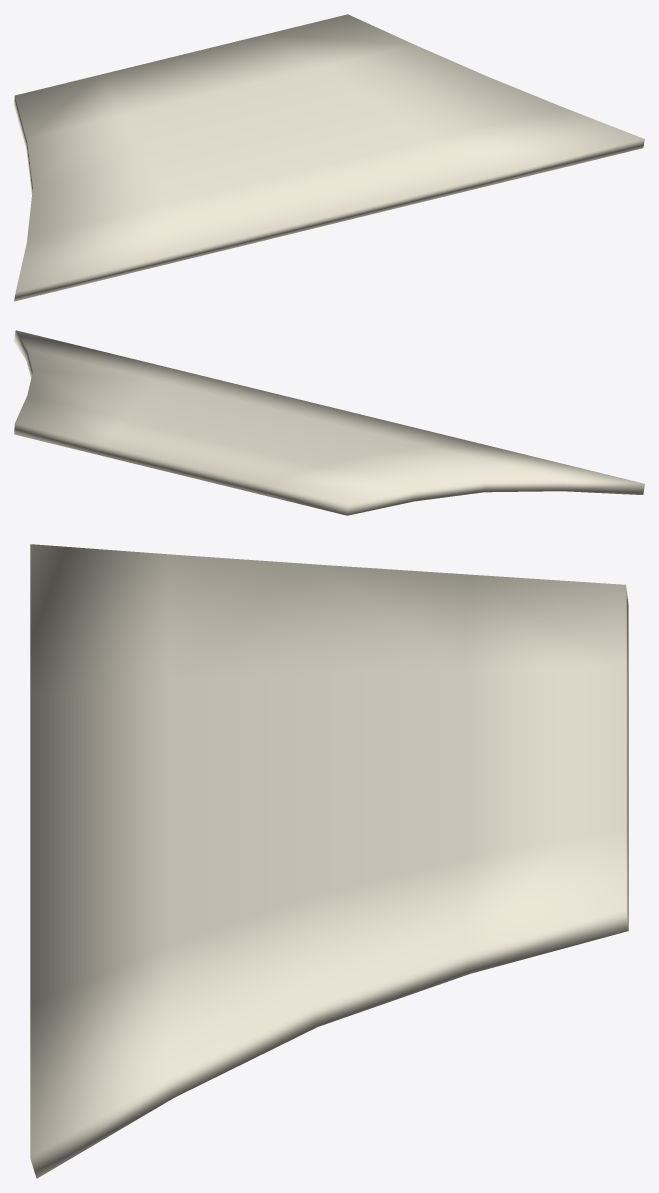
3 renders of one model, top to bottom at view 1: azimuth 30°, elevation 25°; view 2: azimuth 150°, elevation 25°; view 3: azimuth 270°, elevation 25°, orthographic. The views are drawn at different scales.
Visible parts, largest first — view 1: ZA_84abcf7407dfef5d; view 2: ZA_84abcf7407dfef5d; view 3: ZA_84abcf7407dfef5d.
Part boxes in pixels (x1,y1,x2,y2): ZA_84abcf7407dfef5d: (14,14,644,301); ZA_84abcf7407dfef5d: (14,330,644,515); ZA_84abcf7407dfef5d: (30,544,628,1178).
Size of the model in its own units: 0.031 by 0.00293 by 0.0128.
